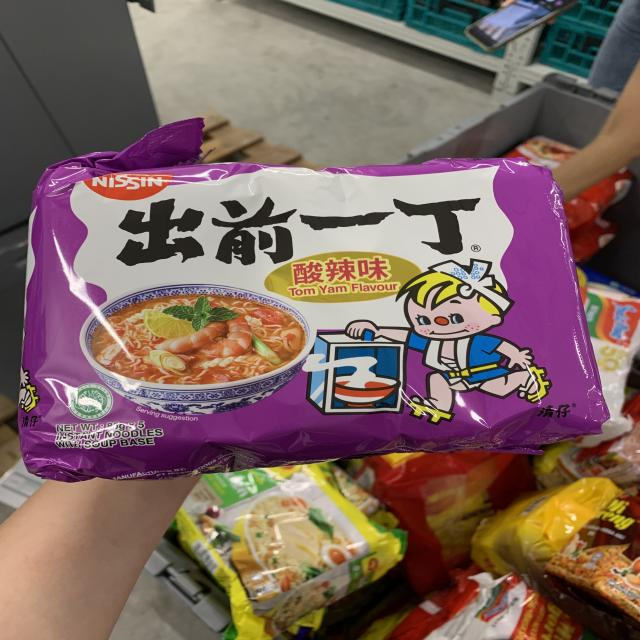object_name: (40, 170, 580, 444)
